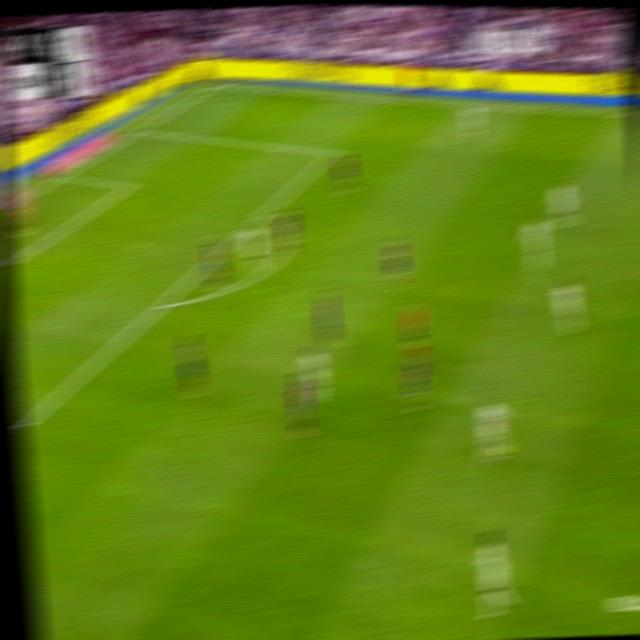bigarea_bottom_inner: (16, 411, 35, 437)
bigarea_top_inner: (322, 144, 339, 160)
bigarea_top_outter: (129, 122, 148, 138)
bottom_arc_area_intersection: (151, 293, 173, 315)
smallarea_top_inner: (118, 177, 137, 192)
top_arc_area_intersection: (256, 203, 274, 219)
